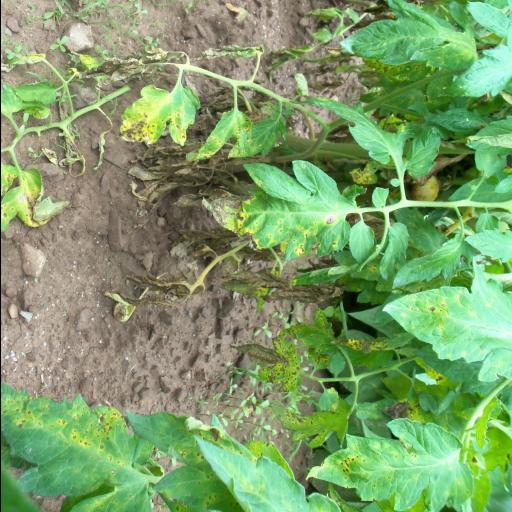Septoria: (0, 380, 160, 494), (373, 257, 512, 382), (199, 158, 353, 262), (302, 412, 462, 512), (338, 0, 481, 71), (288, 96, 406, 166), (116, 84, 200, 146), (0, 161, 72, 233), (390, 234, 468, 290), (230, 335, 302, 394), (265, 402, 353, 449), (276, 306, 340, 354), (194, 109, 252, 161), (226, 118, 286, 160), (377, 222, 411, 280), (331, 332, 414, 354), (348, 220, 376, 266)
